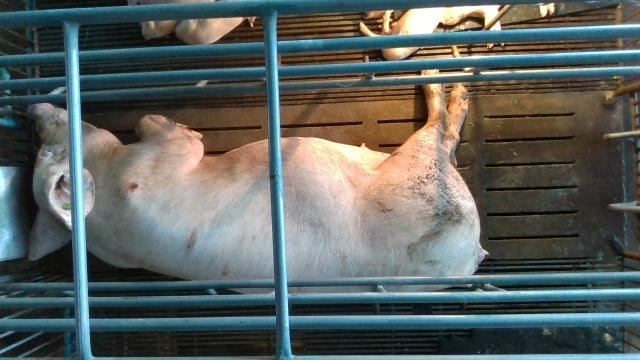piglet: (360, 8, 446, 61), (178, 16, 258, 45)
sow-sleep: (27, 70, 489, 293)
